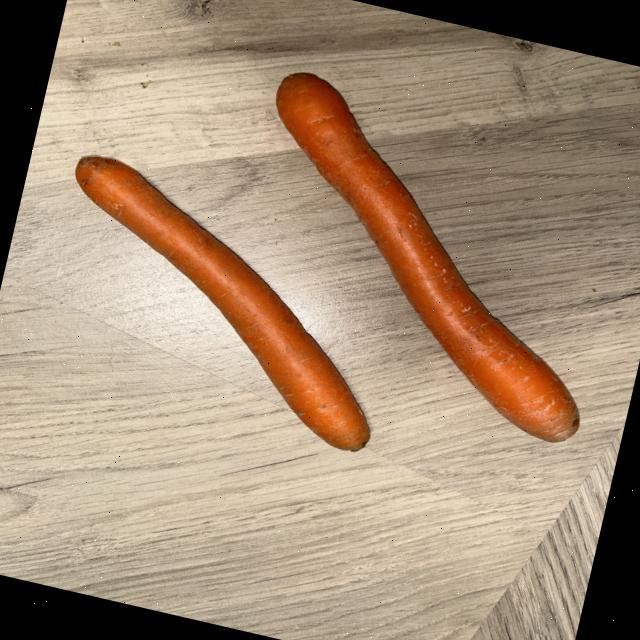carrot: (275, 69, 580, 440), (72, 152, 369, 448)
